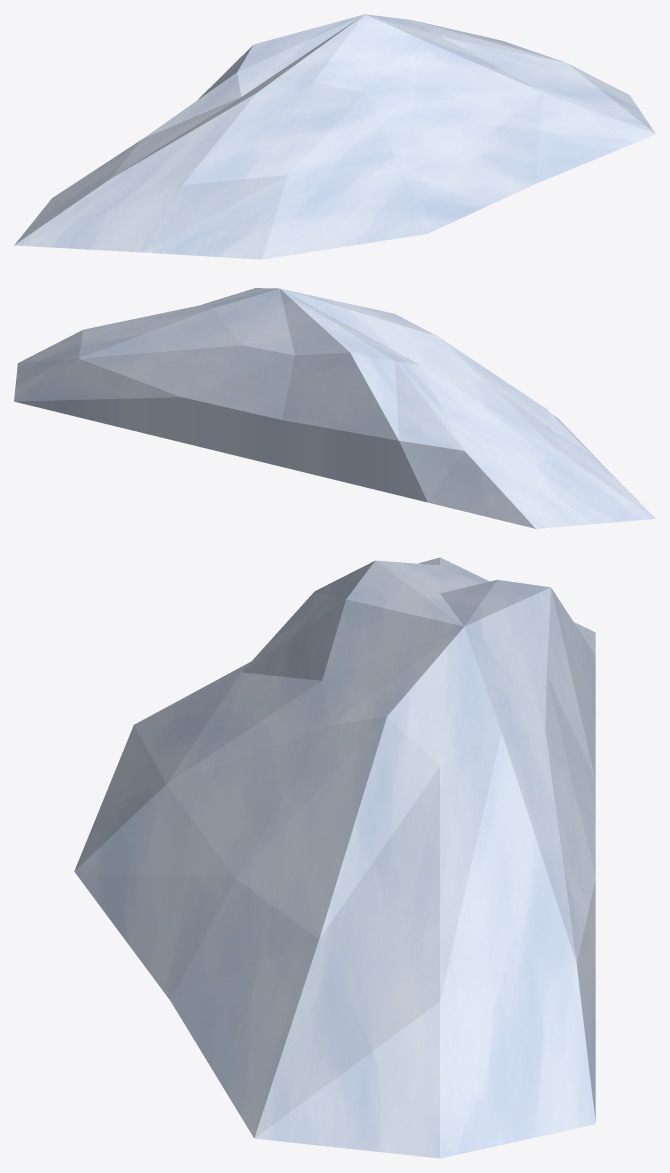
Rendered from drift_wall.glb.
3 renders of one model, top to bottom at view 1: azimuth 30°, elevation 25°; view 2: azimuth 150°, elevation 25°; view 3: azimuth 270°, elevation 25°, orthographic. The views are drawn at different scales.
Visible parts, largest first — view 1: winter_drift_wall; view 2: winter_drift_wall; view 3: winter_drift_wall.
Boxes of the visible parts, x1,y1,x2,y2 form: winter_drift_wall: (14, 14, 655, 259); winter_drift_wall: (14, 288, 655, 528); winter_drift_wall: (74, 557, 595, 1158).
Bounding box in the file's own units: 3 × 0.65 × 1.1.
1 material, 1 textured.
